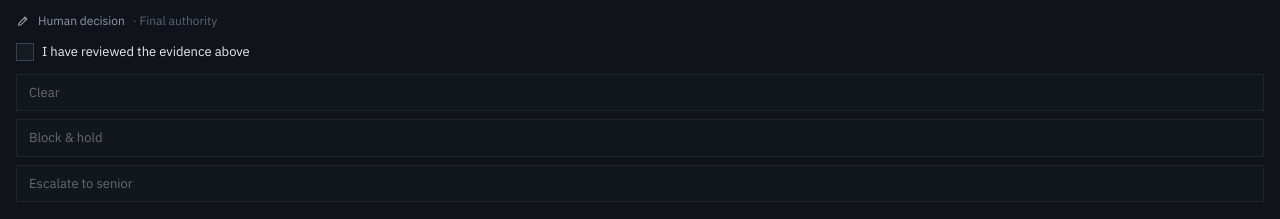
Scenario: HumanDecisionPanel › keeps every action disabled until the evidence-acknowledged checkbox is checked
This screenshot has width=1280, height=219.
Expected: the button "Clear" is disabled, [16, 74, 1264, 111]
Expected: the button "Block & hold" is disabled, [16, 119, 1264, 156]
Click the text "I have reviewed the evidence above": (133, 52) [16, 43, 250, 61]
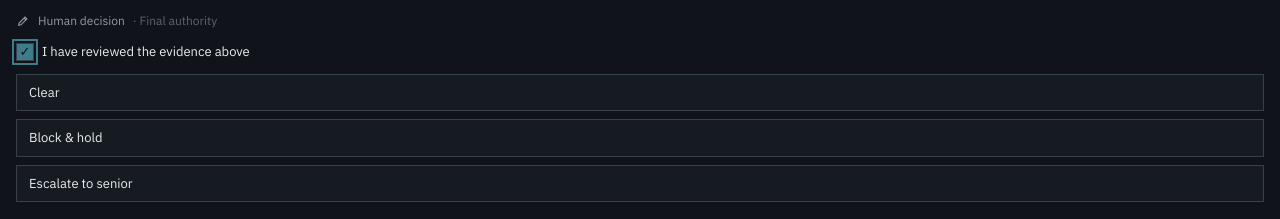
Now the button "Clear" is enabled, box [16, 74, 1264, 111]
